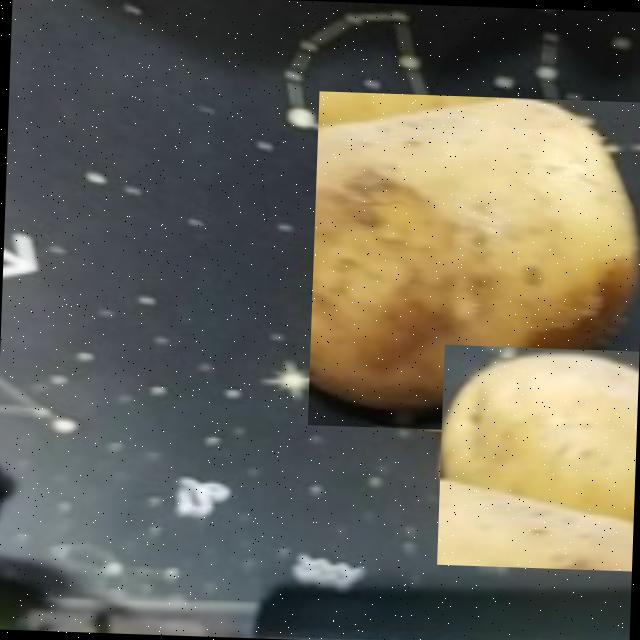Damaged potato: (306, 90, 640, 435)
Potato: (436, 343, 640, 570)
